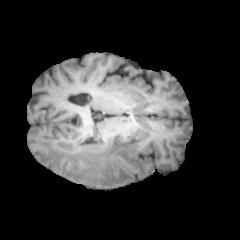glioma: (40, 130, 144, 187)
